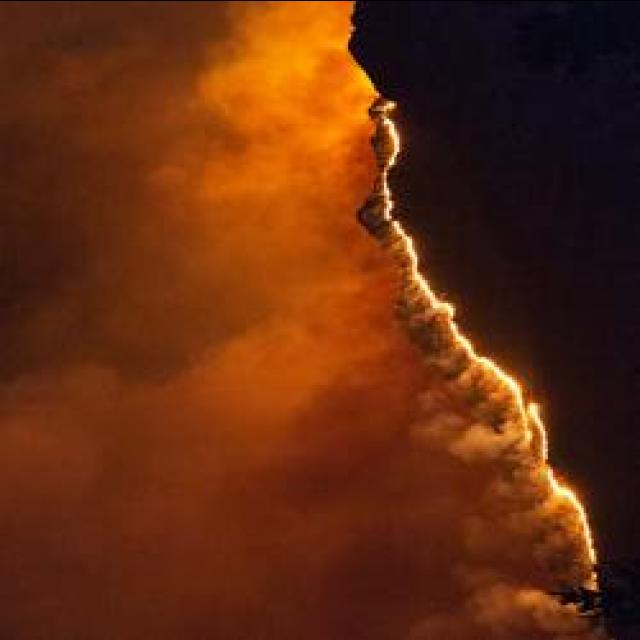fire: (545, 474, 599, 568), (388, 220, 430, 308), (481, 372, 526, 454), (369, 118, 405, 172)
smoke: (212, 28, 356, 196), (188, 362, 322, 474), (280, 280, 402, 352), (458, 484, 553, 567), (463, 583, 578, 640), (430, 416, 510, 469), (410, 372, 480, 406)
